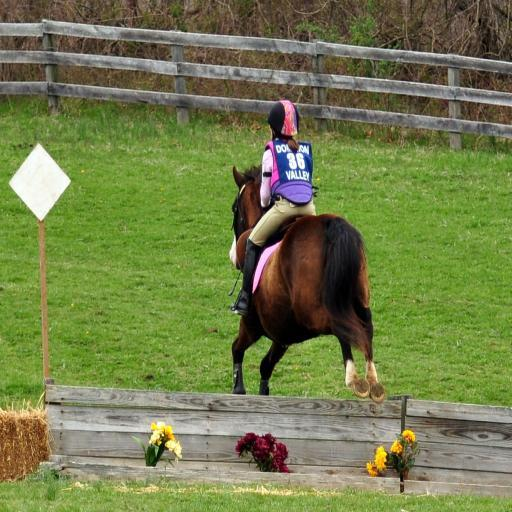Horse: (230, 161, 387, 406)
